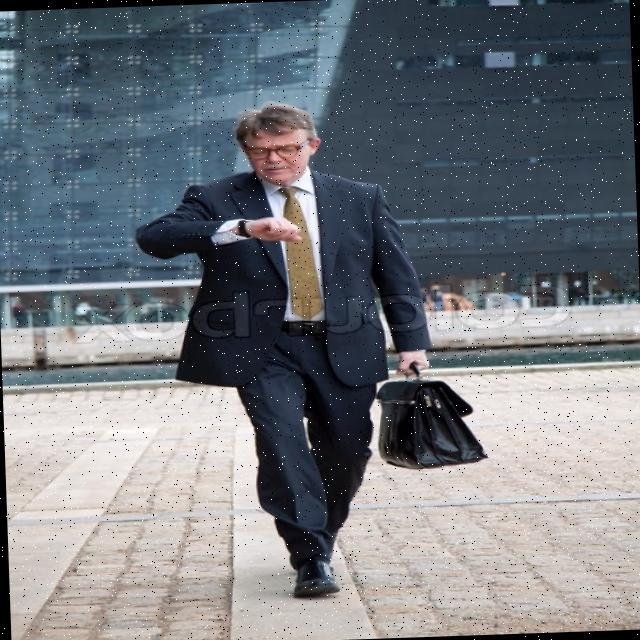Person: (134, 96, 491, 602)
